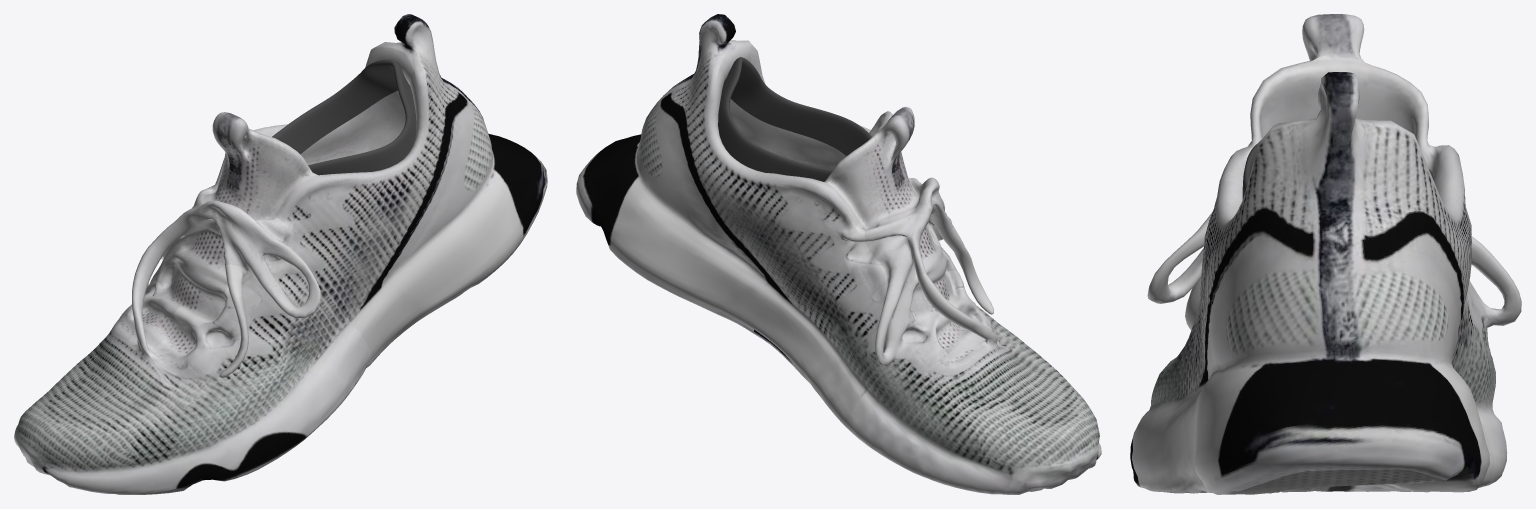
The model's file is shoe-transformed.glb.
3 renders of one model, left to right at view 1: azimuth 30°, elevation 25°; view 2: azimuth 150°, elevation 25°; view 3: azimuth 270°, elevation 25°, orthographic. The views are drawn at different scales.
Parts seen in each view (by area): view 1: Shoe; view 2: Shoe; view 3: Shoe.
Part boxes in pixels (<box>): Shoe: <box>14,14,547,494</box>; Shoe: <box>576,14,1101,494</box>; Shoe: <box>1130,14,1521,494</box>.
Bounding box in the file's own units: 33 × 23.65 × 13.69.
2 materials, 1 textured.
